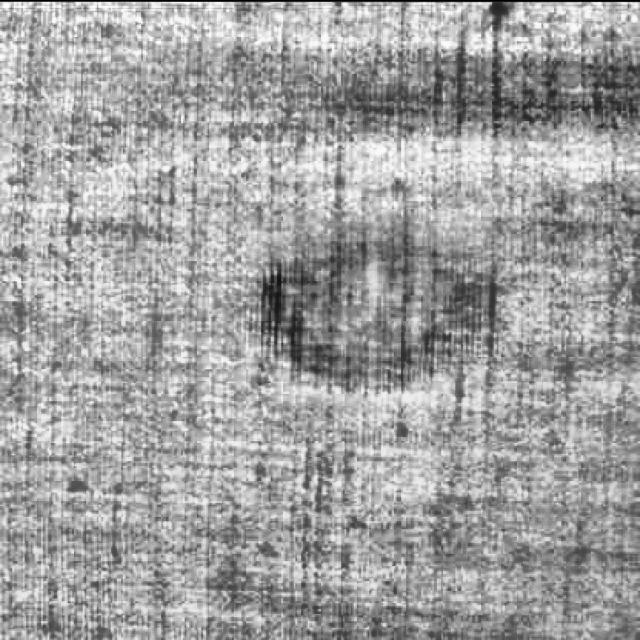oil_spot: (237, 214, 520, 408)
